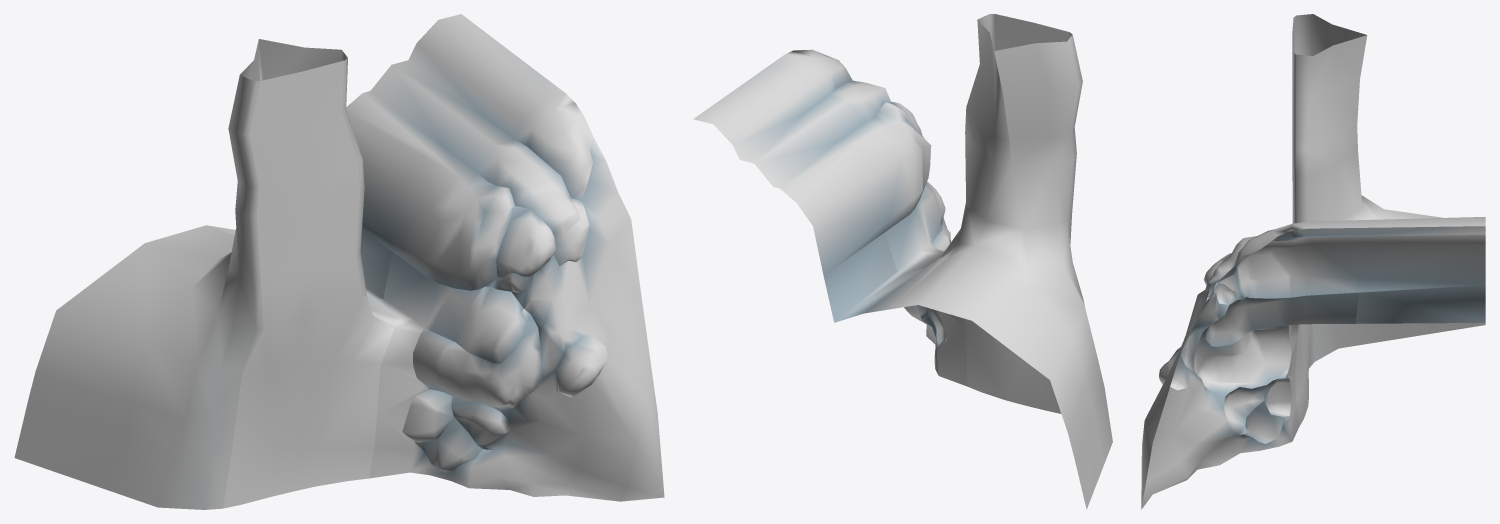
The model's file is Snow_BridgeTransitionA.glb.
3 views of the same model, side by side, from view 1: azimuth 30°, elevation 25°; view 2: azimuth 150°, elevation 25°; view 3: azimuth 270°, elevation 25° (orthographic). The views are drawn at different scales.
Visible parts, largest first — view 1: MeshNode_0, MeshNode_1; view 2: MeshNode_0, MeshNode_1; view 3: MeshNode_0, MeshNode_1.
Part boxes in pixels (box(x1,y1,x2,y2)): MeshNode_0: box(14, 14, 664, 509); MeshNode_1: box(223, 60, 394, 508); MeshNode_0: box(693, 14, 1112, 509); MeshNode_1: box(964, 14, 1070, 413); MeshNode_0: box(1141, 14, 1485, 509); MeshNode_1: box(1292, 18, 1308, 425).
Bounding box in the file's own units: 105 × 96 × 82.68.
